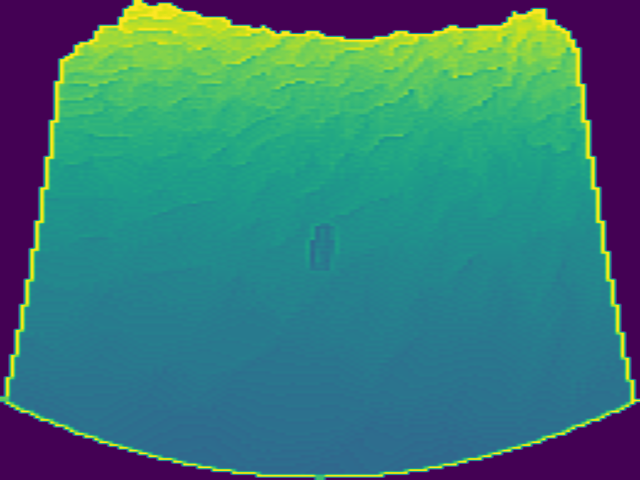car_0198: (306, 225, 337, 270)
